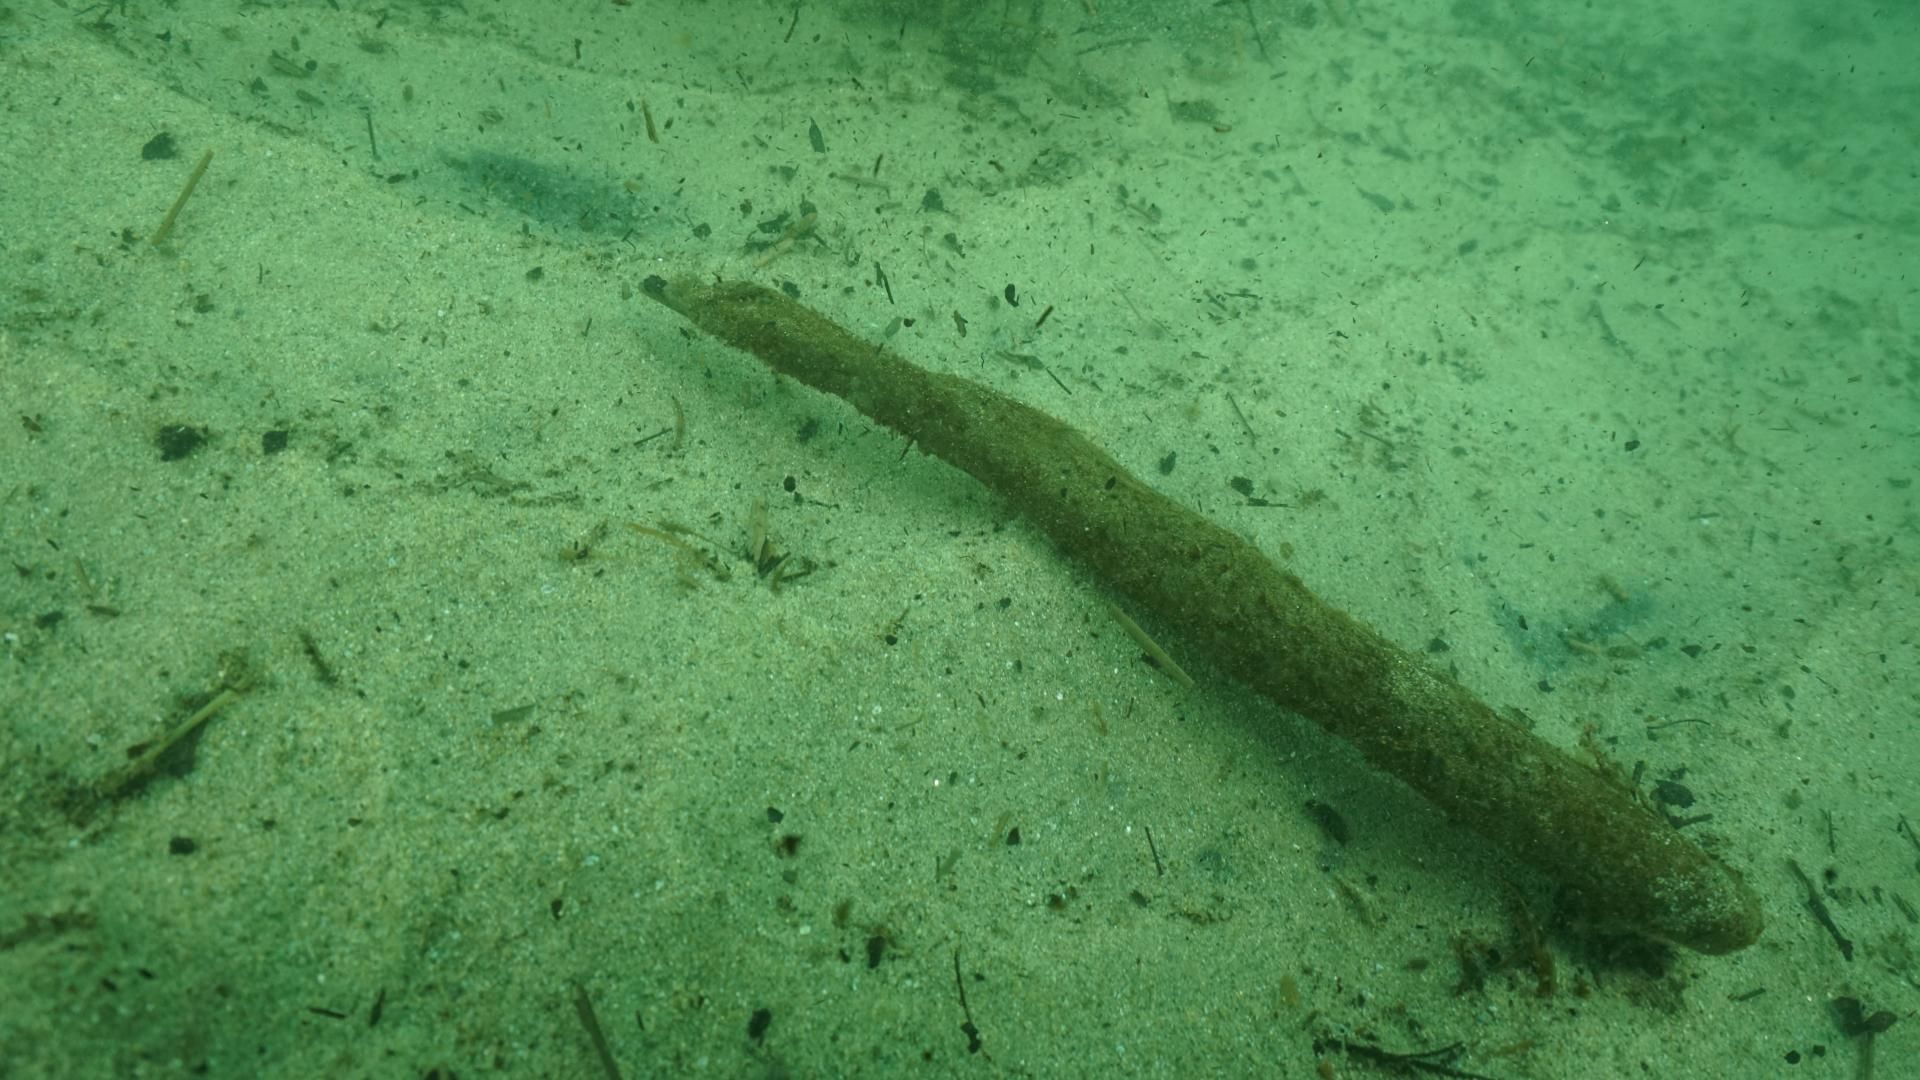wood: (636, 272, 1764, 960)
